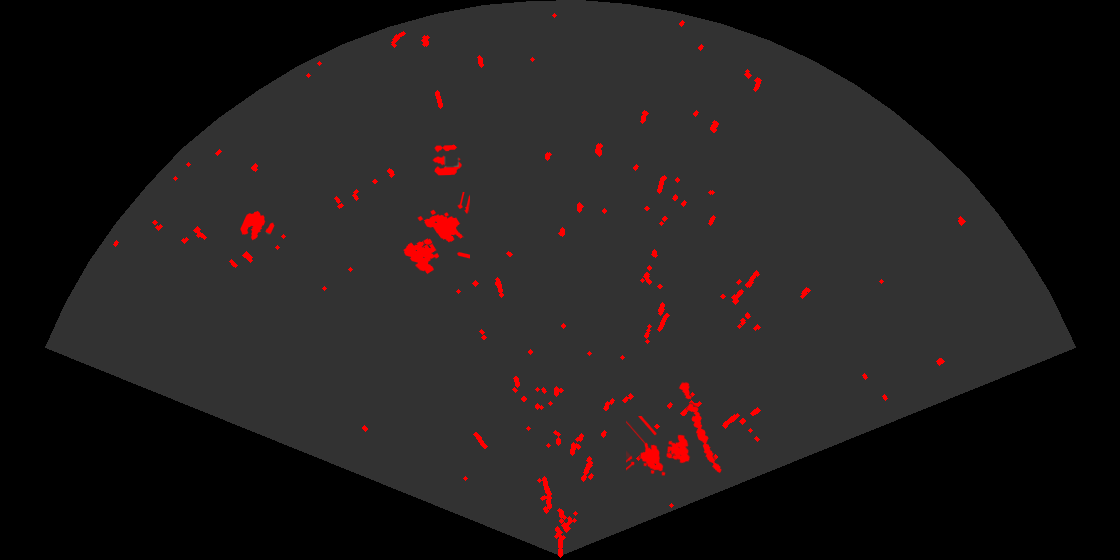ball: (239, 209, 276, 242), (431, 143, 463, 177)
cage: (402, 192, 470, 276), (626, 416, 692, 478)
chain: (677, 380, 723, 475)
